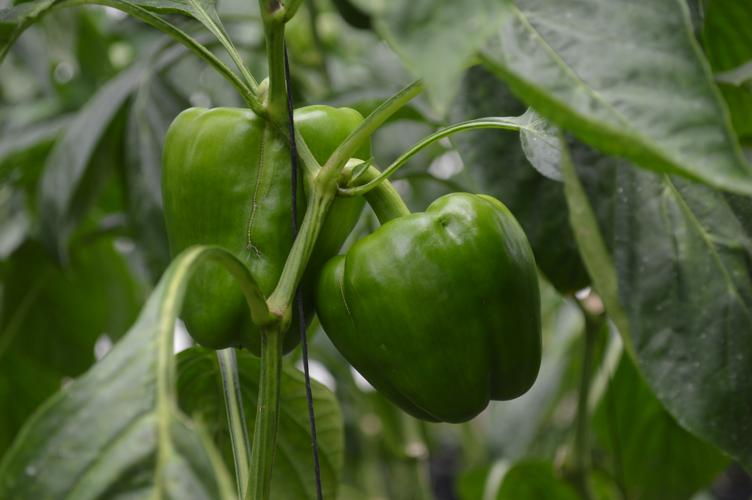BellPepper: (305, 192, 543, 416), (151, 107, 369, 347)
